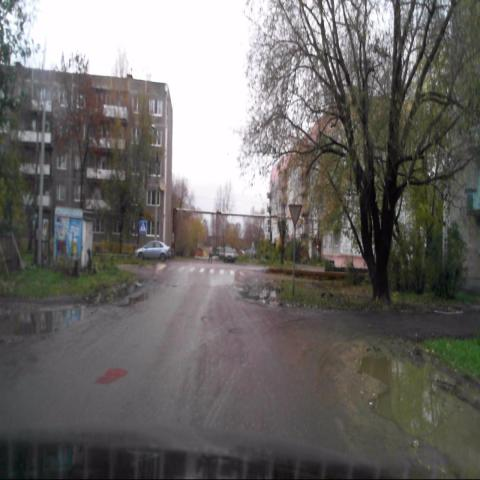1_31: (289, 203, 302, 230)
